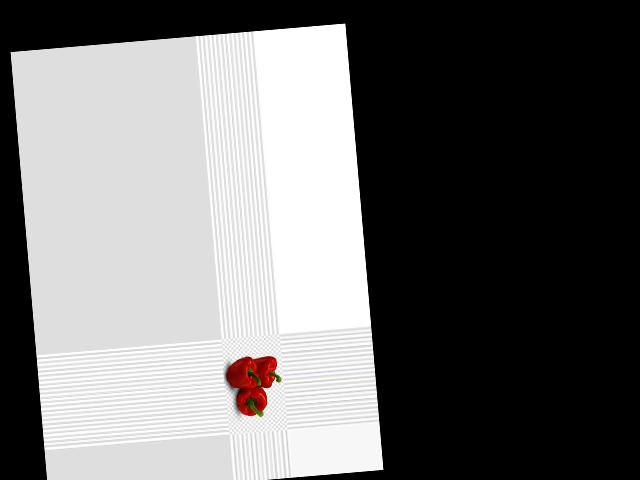bell_pepper: (232, 381, 272, 420)
